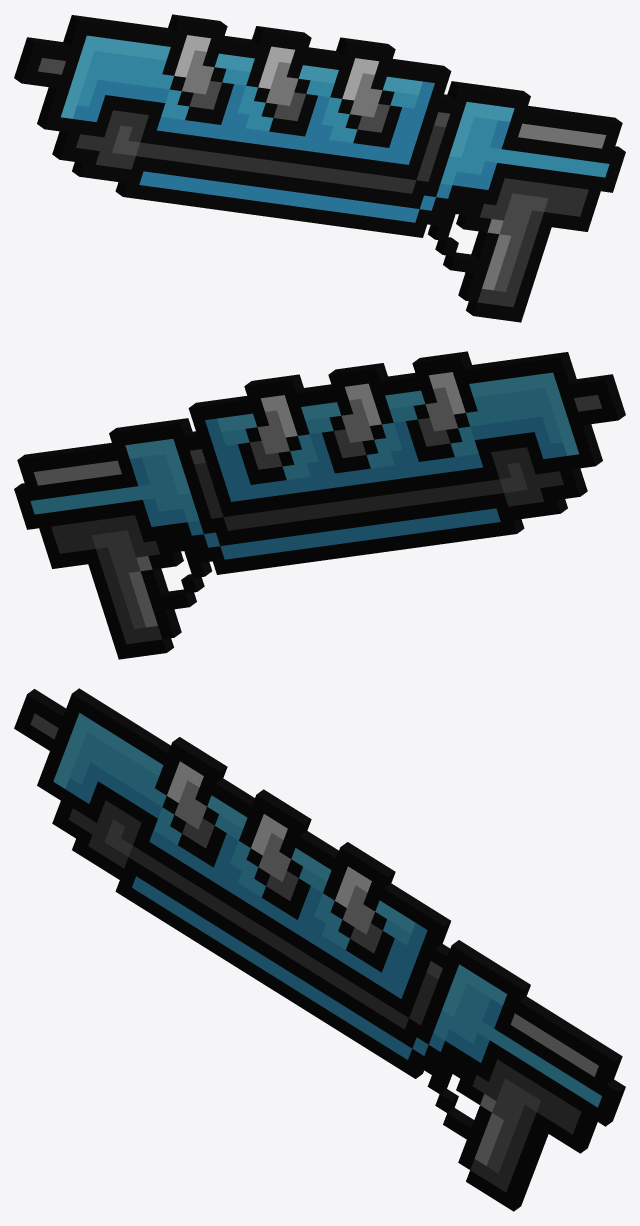
Rendered from Light Blue Paintball Gun.glb.
3 views of the same model, one above another, from view 1: azimuth 30°, elevation 25°; view 2: azimuth 150°, elevation 25°; view 3: azimuth 330°, elevation 25° (orthographic).
Parts seen in each view (by area): view 1: Untitled; view 2: Untitled; view 3: Untitled.
Boxes of the visible parts, <box> form: Untitled: <box>14,14,625,322</box>; Untitled: <box>14,351,625,659</box>; Untitled: <box>14,688,625,1211</box>.
Bounding box in the file's own units: 18.93 × 12.27 × 0.4.
Materials: 1 (1 with a texture image).
